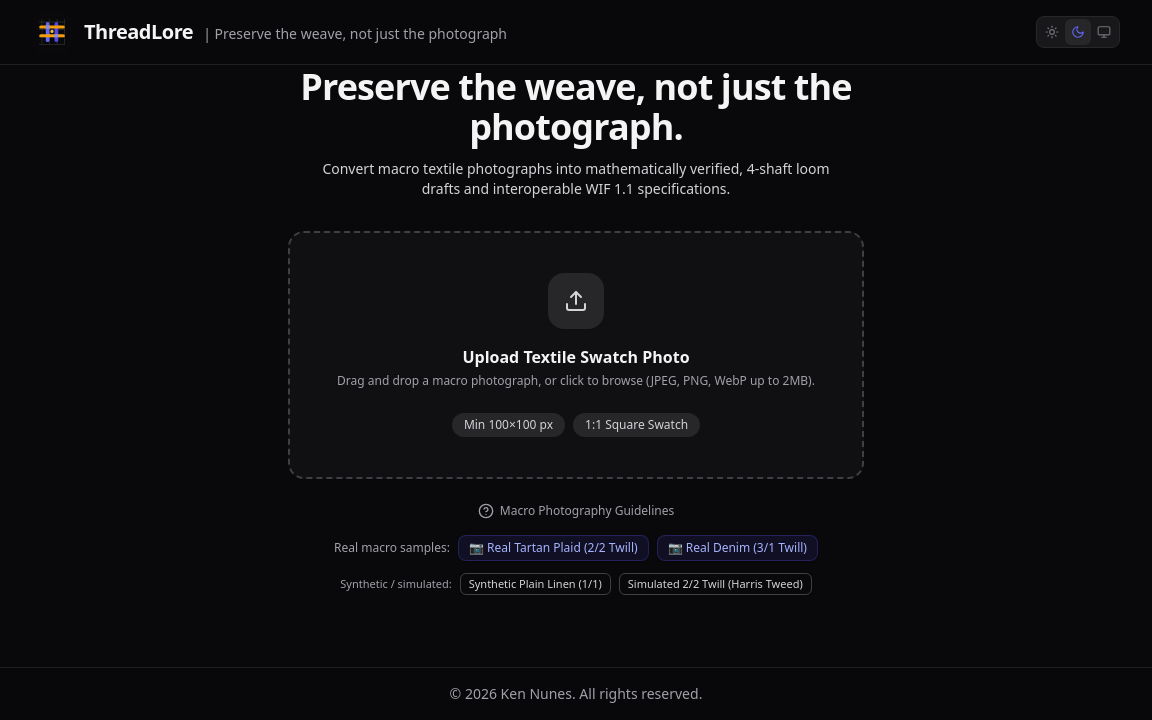
Issue #19 - Unmeasured Thread Spacing Placeholder Label Regression Test › should display "(Default Placeholder: Optical detection uncertain)" when spacing_detected is false
(page scrolled)
// Ingest swatch
Click the button "Synthetic Plain Linen (1/1)": {"x": 535, "y": 584} x1=460 y1=573 x2=611 y2=595
(page scrolled)
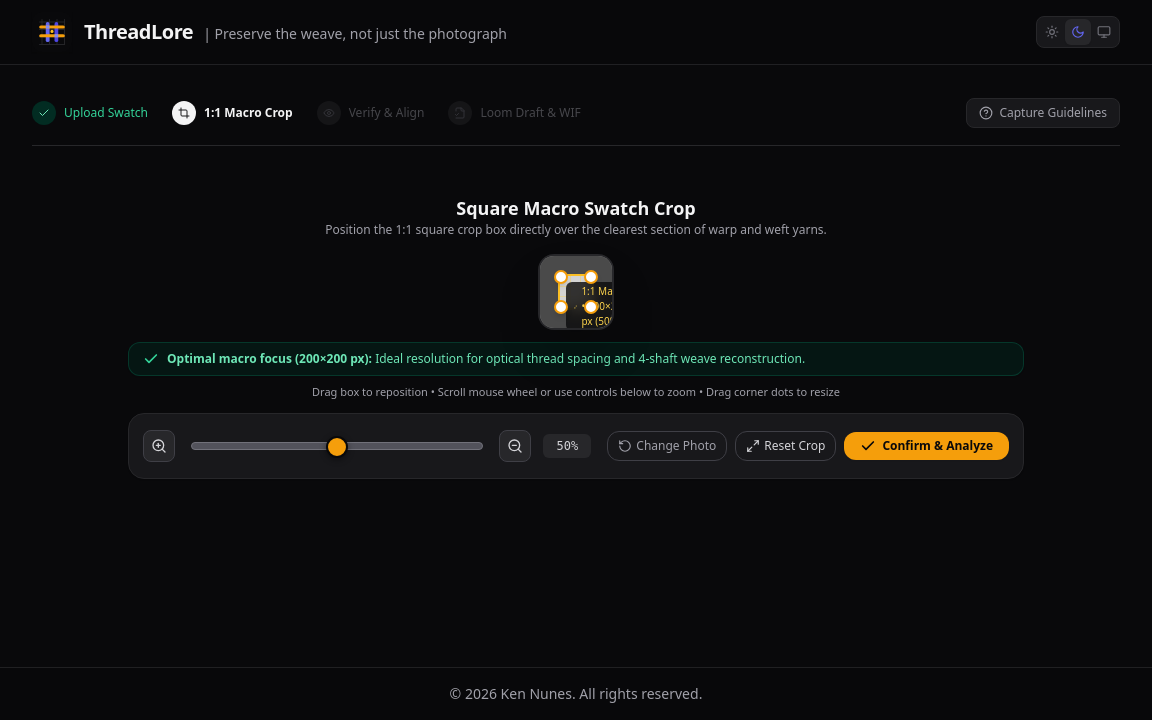
Check: the heading "Square Macro Swatch Crop" is shown, box x1=456 y1=196 x2=696 y2=220
Click the button "Confirm & Analyze": {"x": 927, "y": 446} x1=844 y1=432 x2=1009 y2=460
(page scrolled)
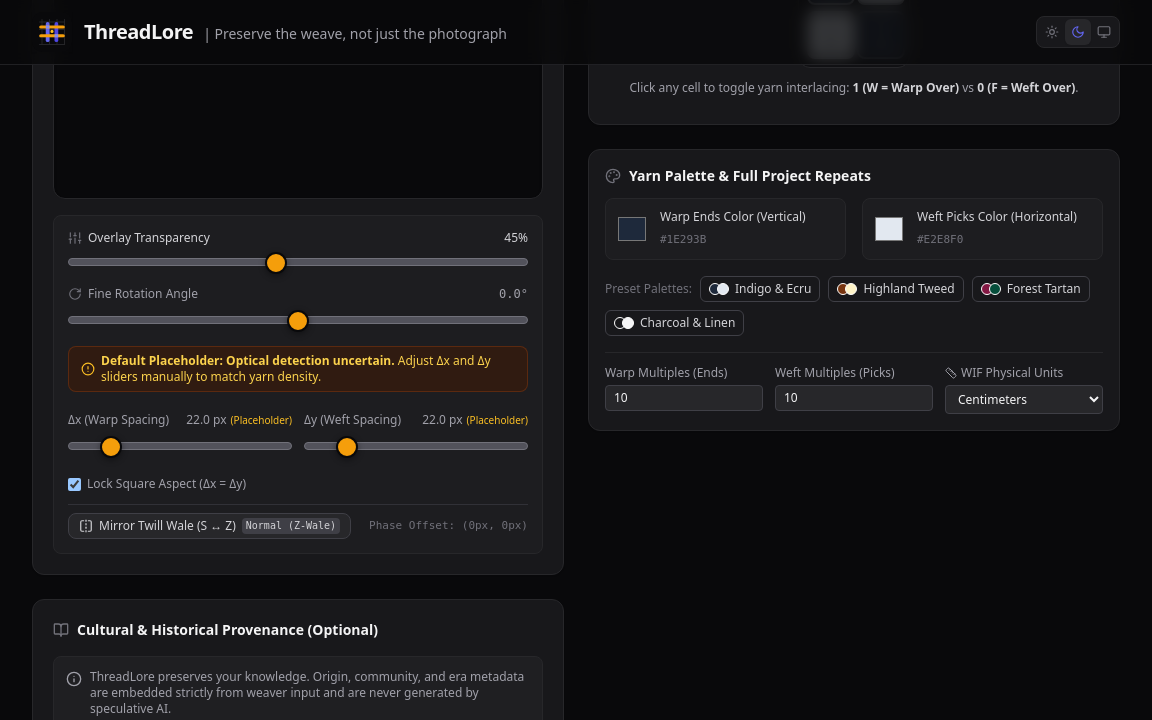
Check: the text "Default Placeholder: Optical detection uncertain." is shown, box x1=101 y1=352 x2=395 y2=369
